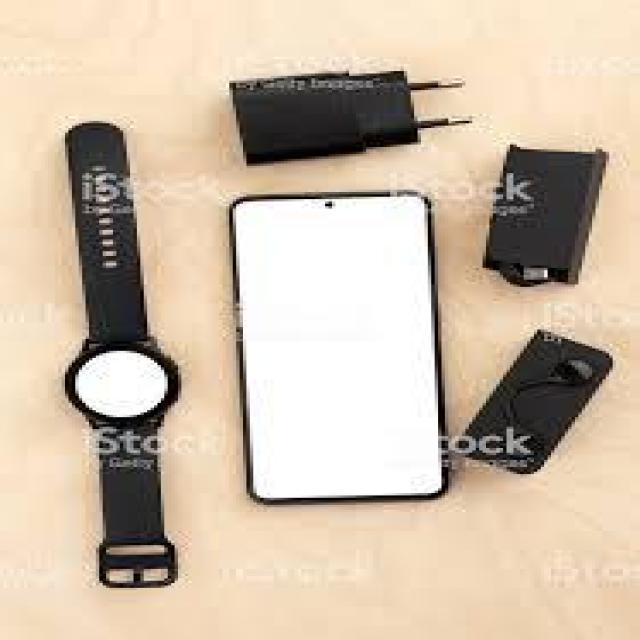smart phone: (222, 190, 458, 507)
watch: (31, 89, 214, 630)
